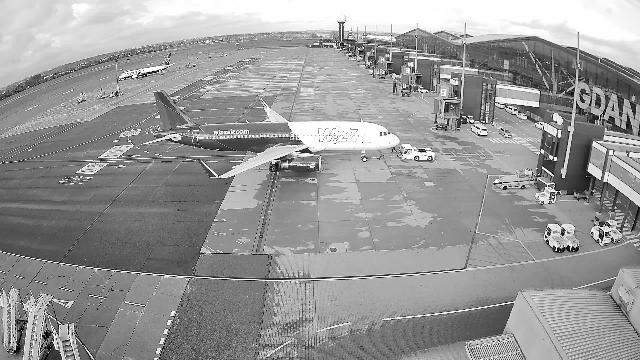Aircraft: (142, 90, 400, 178), (118, 53, 171, 79)
Airport_Tractor: (543, 224, 568, 253), (560, 224, 580, 252), (590, 226, 612, 246), (534, 186, 557, 205), (603, 220, 622, 243)
Baggage_Trolley: (536, 176, 555, 192), (574, 188, 588, 200)
Conveyor_Belt: (493, 170, 535, 190)
Pushback_Tug: (399, 144, 435, 161)
